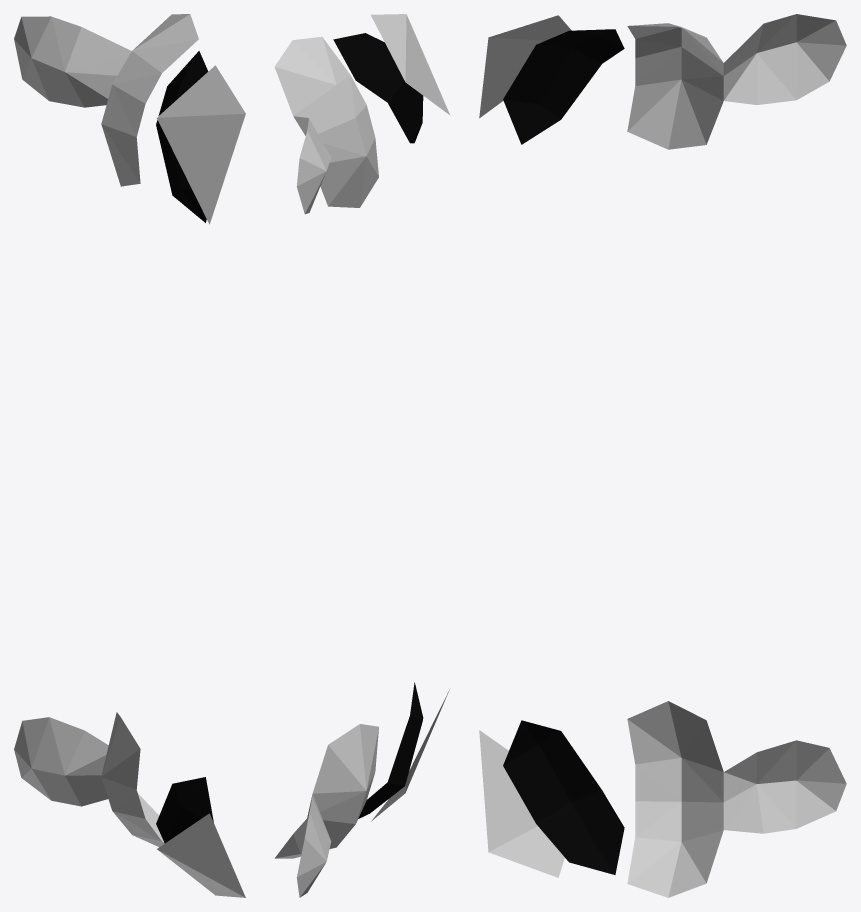
The picture shows the model from 3 angles, left to right: view 1: azimuth 30°, elevation 25°; view 2: azimuth 150°, elevation 25°; view 3: azimuth 270°, elevation 25°; orthographic projection. The views are drawn at different scales.
Parts seen in each view (by area): view 1: B_0064_3b_0, B_0064_3b_1; view 2: B_0064_3b_0, B_0064_3b_1; view 3: B_0064_3b_0, B_0064_3b_1.
Boxes of the visible parts, <box> form: B_0064_3b_0: <box>14,14,245,897</box>; B_0064_3b_1: <box>156,51,213,843</box>; B_0064_3b_0: <box>274,14,450,897</box>; B_0064_3b_1: <box>333,33,423,818</box>; B_0064_3b_0: <box>479,14,846,897</box>; B_0064_3b_1: <box>503,29,624,874</box>.
Bounding box in the file's own units: 1.58 × 13.14 × 5.
